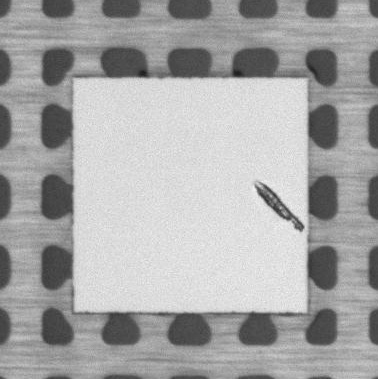DIE_INK: (252, 183, 303, 232)
